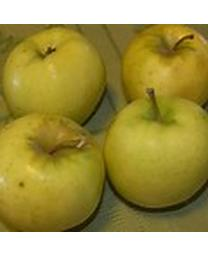apple: (103, 88, 207, 210), (0, 112, 105, 228), (2, 28, 104, 126), (121, 25, 207, 105)
